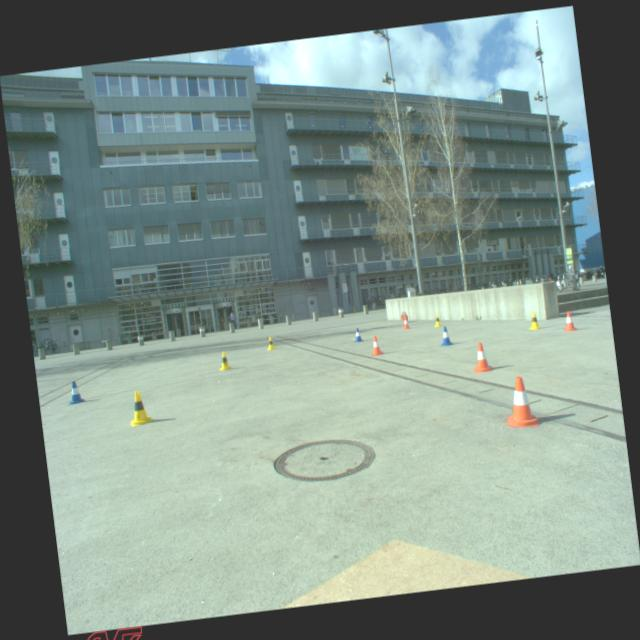blue_cone: (66, 380, 86, 404), (438, 326, 454, 346), (352, 327, 364, 342)
orange_cone: (502, 374, 540, 429), (470, 341, 493, 374), (561, 310, 577, 331), (369, 334, 383, 356), (402, 316, 409, 329)
yellow_cone: (126, 389, 154, 426), (526, 310, 542, 330), (218, 350, 232, 370), (266, 336, 276, 350), (432, 314, 442, 327)
